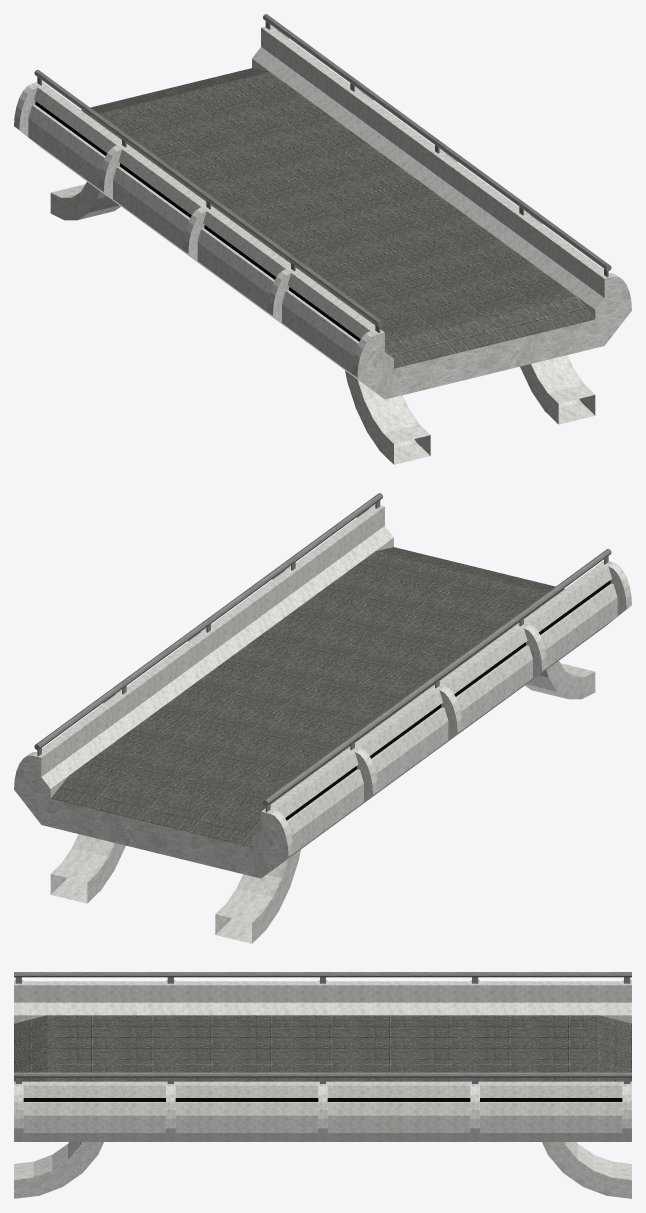
File: thm_corl_imprv_bridge_sm_s01_l0.fbx
The picture shows the model from 3 angles, top to bottom: view 1: azimuth 30°, elevation 25°; view 2: azimuth 150°, elevation 25°; view 3: azimuth 270°, elevation 25°; orthographic projection. The views are drawn at different scales.
Visible parts, largest first — view 1: mesh_node; view 2: mesh_node; view 3: mesh_node.
Boxes of the visible parts, x1=… form: mesh_node: x1=14, y1=14, x2=631, y2=464; mesh_node: x1=14, y1=493, x2=631, y2=943; mesh_node: x1=14, y1=972, x2=631, y2=1198.
Size of the model in its own units: 7.5 by 3.84 by 16.25.
